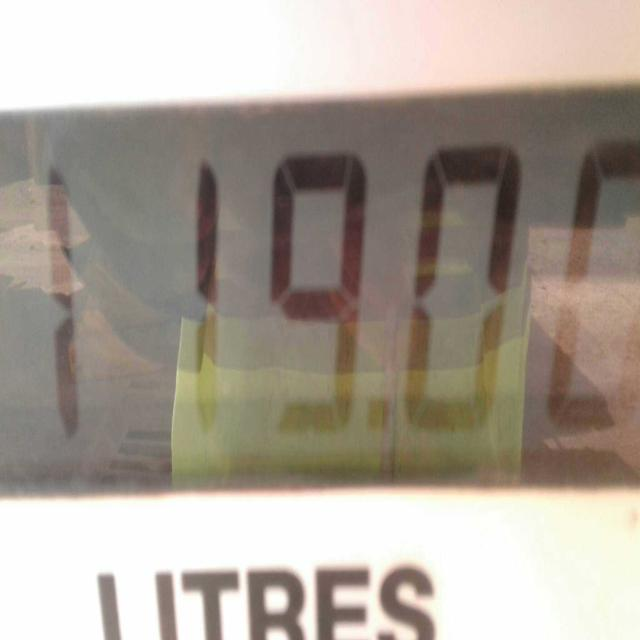.: (357, 394, 403, 476)
0: (388, 136, 540, 442), (141, 153, 251, 470), (27, 138, 133, 464), (547, 117, 640, 476)
9: (252, 144, 372, 490)
